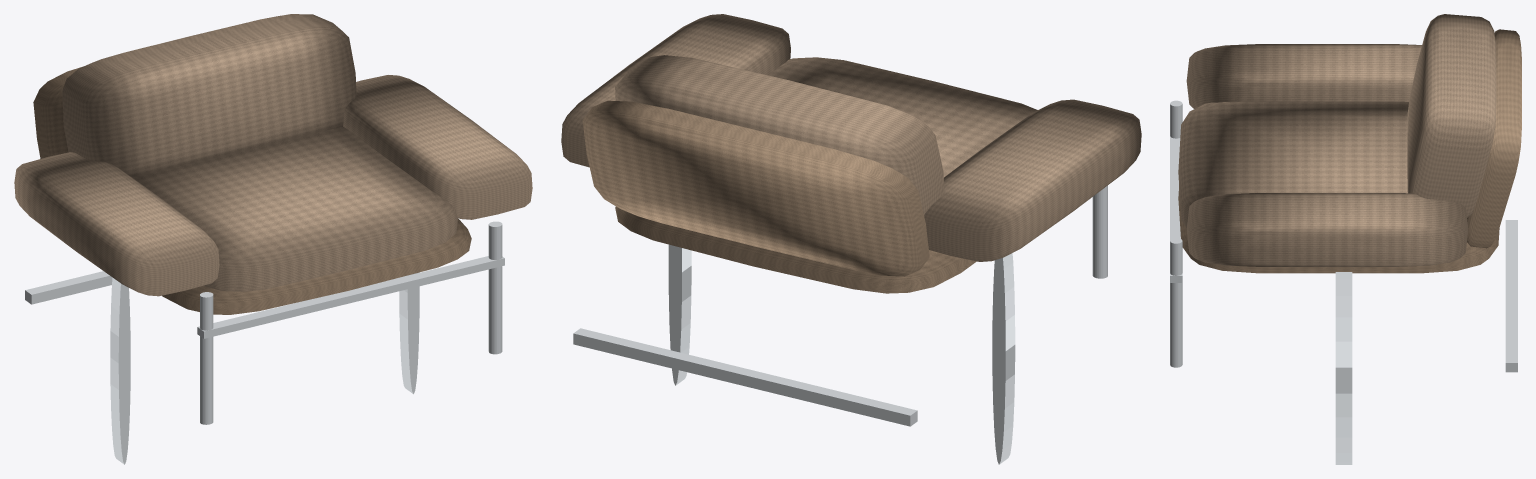
3 renders of one model, left to right at view 1: azimuth 30°, elevation 25°; view 2: azimuth 150°, elevation 25°; view 3: azimuth 270°, elevation 25°, orthographic. The views are drawn at different scales.
Parts seen in each view (by area): view 1: 12 backrest, 8 seat, 9 armrest_left, 10 armrest_right, 7 seat_base, 6 front_crossbar, 1 left_bottom_rail, 11 backrest_frame, 2 right_bottom_rail, 5 right_front_leg, 4 left_front_leg, 3 rear_bottom_rail; view 2: 11 backrest_frame, 9 armrest_left, 12 backrest, 8 seat, 10 armrest_right, 7 seat_base, 3 rear_bottom_rail, 1 left_bottom_rail, 2 right_bottom_rail, 4 left_front_leg; view 3: 8 seat, 10 armrest_right, 12 backrest, 9 armrest_left, 11 backrest_frame, 2 right_bottom_rail, 7 seat_base, 3 rear_bottom_rail, 5 right_front_leg, 6 front_crossbar, 4 left_front_leg.
Part boxes in pixels (x1=…): 12 backrest: x1=62, y1=14, x2=356, y2=177; 8 seat: x1=132, y1=126, x2=458, y2=291; 9 armrest_left: x1=14, y1=152, x2=219, y2=296; 10 armrest_right: x1=343, y1=75, x2=532, y2=219; 7 seat_base: x1=162, y1=219, x2=471, y2=314; 6 front_crossbar: x1=197, y1=256, x2=504, y2=338; 1 left_bottom_rail: x1=110, y1=277, x2=130, y2=464; 11 backrest_frame: x1=33, y1=66, x2=82, y2=158; 2 right_bottom_rail: x1=399, y1=272, x2=419, y2=394; 5 right_front_leg: x1=488, y1=221, x2=502, y2=354; 4 left_front_leg: x1=200, y1=292, x2=213, y2=424; 3 rear_bottom_rail: x1=25, y1=271, x2=112, y2=304; 11 backrest_frame: x1=582, y1=100, x2=929, y2=276; 9 armrest_left: x1=924, y1=99, x2=1141, y2=261; 12 backrest: x1=615, y1=55, x2=944, y2=214; 8 seat: x1=768, y1=57, x2=1037, y2=177; 10 armrest_right: x1=561, y1=14, x2=790, y2=167; 7 seat_base: x1=615, y1=206, x2=976, y2=293; 3 rear_bottom_rail: x1=573, y1=328, x2=917, y2=426; 1 left_bottom_rail: x1=992, y1=253, x2=1015, y2=464; 2 right_bottom_rail: x1=668, y1=244, x2=691, y2=385; 4 left_front_leg: x1=1092, y1=185, x2=1107, y2=278; 8 seat: x1=1178, y1=101, x2=1408, y2=227; 10 armrest_right: x1=1186, y1=193, x2=1468, y2=266; 12 backrest: x1=1407, y1=14, x2=1496, y2=217; 9 armrest_left: x1=1186, y1=44, x2=1421, y2=108; 11 backrest_frame: x1=1467, y1=29, x2=1521, y2=248; 2 right_bottom_rail: x1=1335, y1=272, x2=1352, y2=464; 7 seat_base: x1=1178, y1=186, x2=1499, y2=273; 3 rear_bottom_rail: x1=1505, y1=220, x2=1517, y2=372; 5 right_front_leg: x1=1170, y1=238, x2=1182, y2=367; 6 front_crossbar: x1=1170, y1=136, x2=1182, y2=282; 4 left_front_leg: x1=1170, y1=100, x2=1182, y2=138.
Bounding box in the file's own units: 1.05 × 0.8509 × 0.8179.
Materials: 3 (2 with a texture image).
